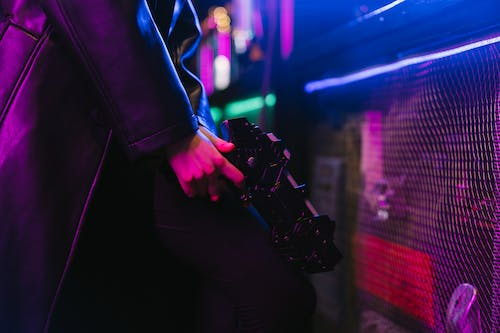gun: (218, 116, 345, 280)
